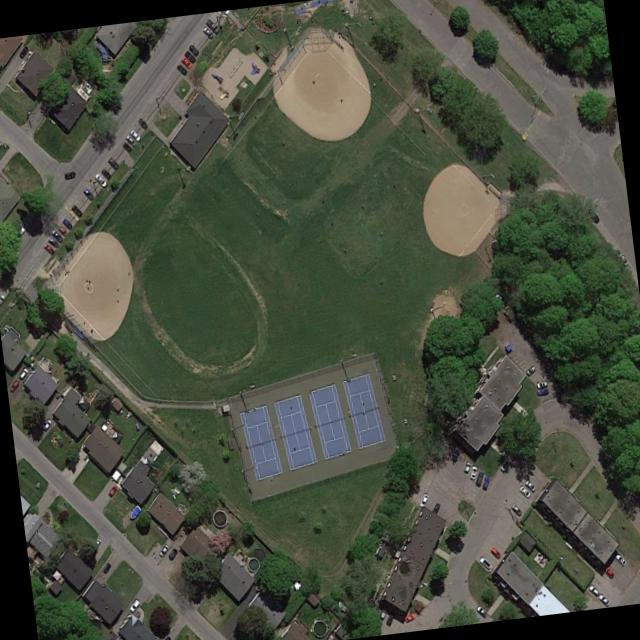ship: (126, 501, 141, 521)
small-vehicle: (91, 170, 107, 188), (585, 205, 600, 224), (416, 490, 429, 509), (204, 16, 219, 32), (68, 202, 83, 218), (105, 154, 119, 171), (156, 542, 170, 558), (596, 591, 610, 607), (134, 114, 148, 130), (98, 165, 112, 181), (126, 596, 139, 613), (40, 414, 52, 432), (7, 376, 19, 394), (105, 481, 117, 499), (509, 501, 523, 516), (199, 24, 213, 39), (182, 47, 195, 63), (123, 131, 136, 147), (80, 185, 93, 201), (16, 42, 28, 59), (477, 554, 491, 568), (174, 61, 188, 75), (523, 362, 536, 377), (517, 482, 530, 497), (586, 581, 599, 596), (601, 563, 614, 578), (16, 364, 29, 379), (186, 42, 199, 57), (49, 227, 62, 242), (41, 240, 54, 255), (614, 551, 626, 567), (474, 603, 487, 617), (60, 216, 73, 230), (616, 250, 628, 265), (461, 458, 471, 476), (467, 463, 477, 481), (473, 469, 483, 487), (99, 559, 111, 574), (128, 126, 140, 141), (523, 477, 535, 491), (488, 545, 500, 559), (179, 54, 191, 68), (402, 610, 415, 622), (55, 222, 67, 235), (61, 168, 75, 179), (480, 475, 489, 491), (46, 235, 58, 247), (534, 378, 548, 388), (535, 387, 547, 395), (161, 633, 172, 640)
